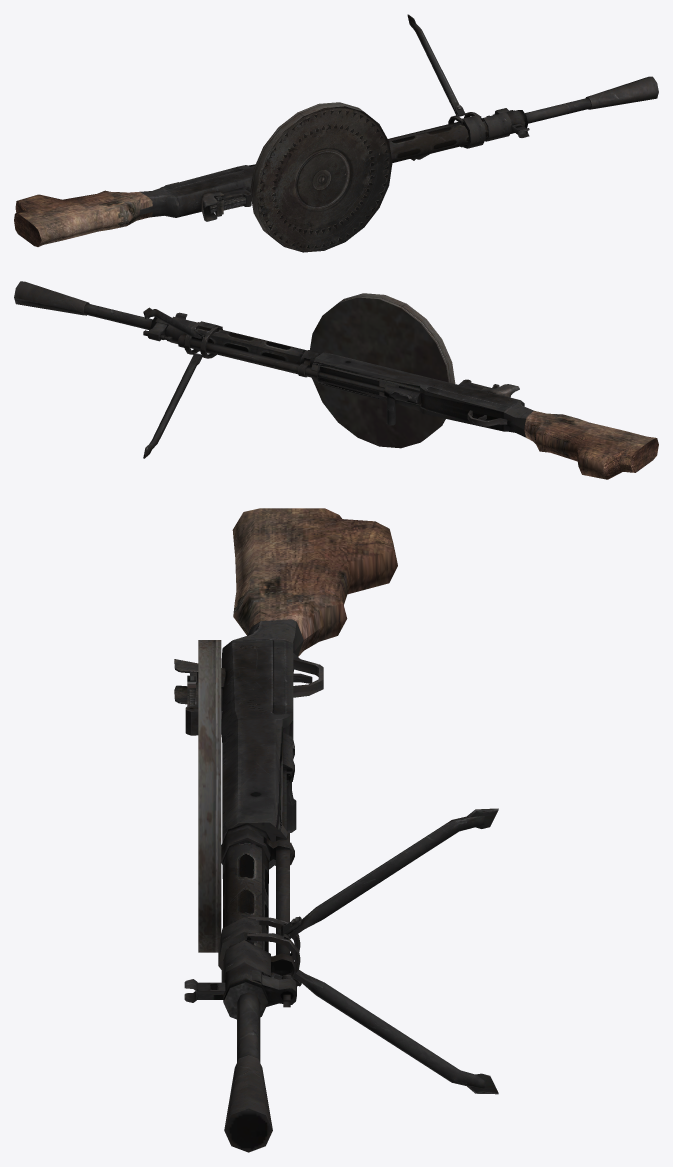
Rendered from weapon_rus_dp28_bipod_lmg_LOD01.obj.
3 renders of one model, top to bottom at view 1: azimuth 30°, elevation 25°; view 2: azimuth 150°, elevation 25°; view 3: azimuth 270°, elevation 25°, orthographic. The views are drawn at different scales.
Parts seen in each view (by area): view 1: TomGroup_1, TomGroup_0; view 2: TomGroup_0, TomGroup_1; view 3: TomGroup_0, TomGroup_1.
Boxes of the visible parts, box(x1,y1,x2,y2) form: TomGroup_1: box(250, 102, 392, 252); TomGroup_0: box(14, 14, 658, 246); TomGroup_0: box(14, 281, 658, 479); TomGroup_1: box(310, 293, 455, 448); TomGroup_0: box(174, 508, 498, 1152); TomGroup_1: box(198, 640, 221, 952).
Bounding box in the file's own units: 134 × 29.79 × 30.67.
Materials: 2 (2 with a texture image).
